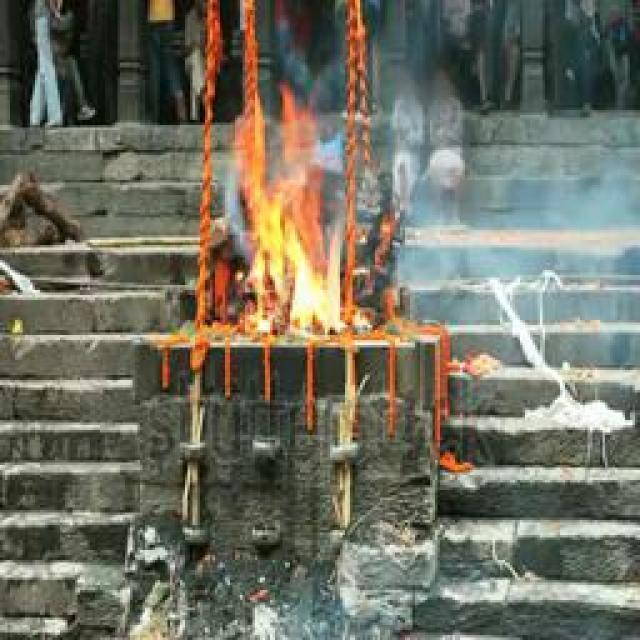Fire: (234, 110, 354, 336)
